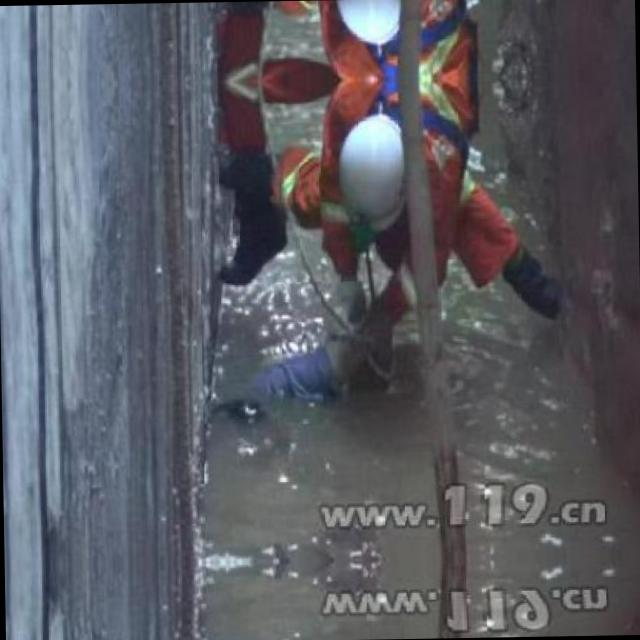helmet: (341, 110, 417, 233), (339, 0, 415, 48)
